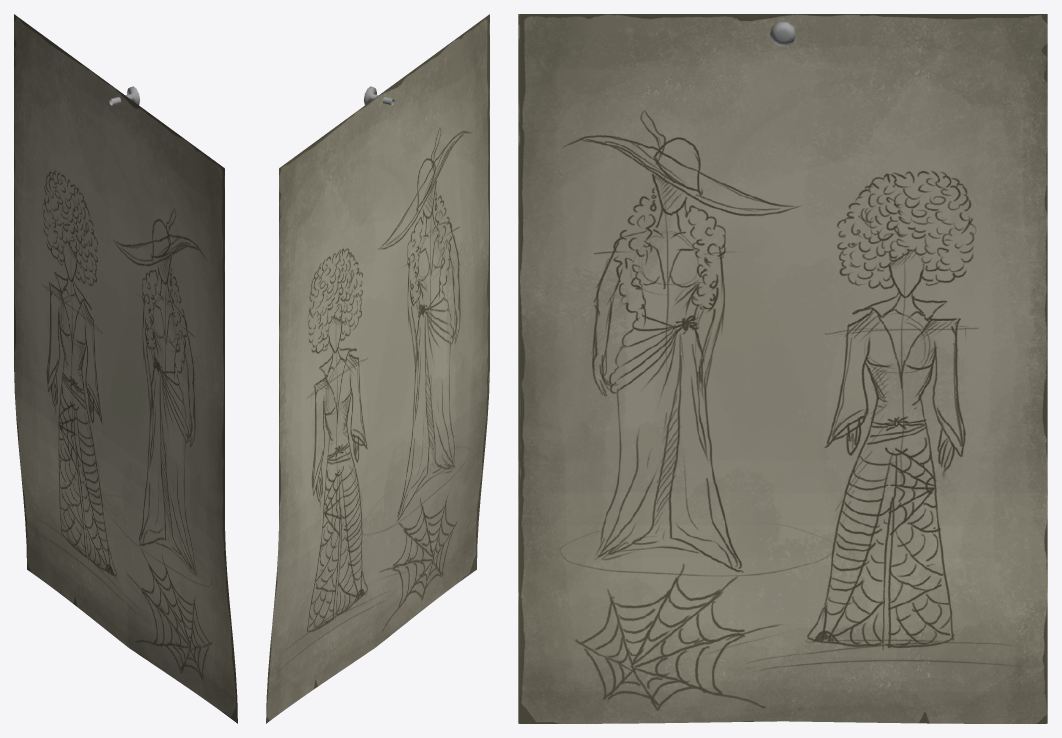
The model's file is wall_drawing.fbx.
The picture shows the model from 3 angles, left to right: view 1: azimuth 30°, elevation 25°; view 2: azimuth 150°, elevation 25°; view 3: azimuth 270°, elevation 25°; orthographic projection. The views are drawn at different scales.
Parts seen in each view (by area): view 1: Plane; view 2: Plane; view 3: Plane.
Boxes of the visible parts, x1,y1,x2,y2 form: Plane: (14,14,237,723); Plane: (266,14,489,723); Plane: (518,14,1047,723).
Size of the model in its own units: 13.99 by 292 by 200.
Materials: 2 (1 with a texture image).
